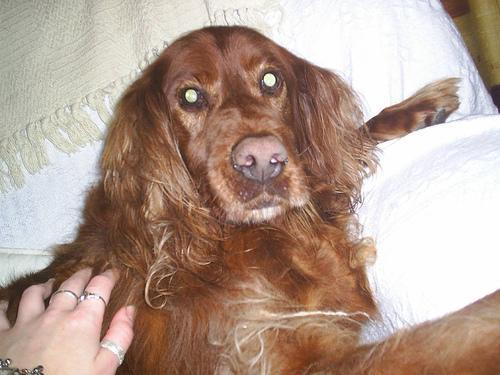Irish_setter: (2, 24, 499, 374)
